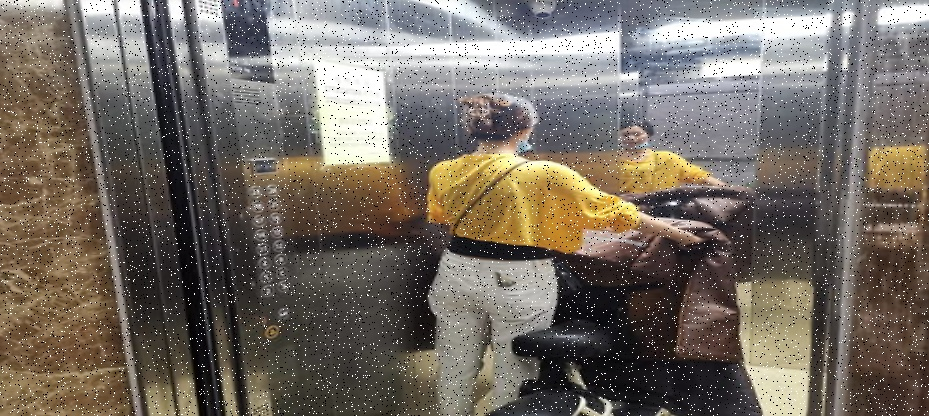ebike: (492, 224, 745, 416)
person: (432, 97, 694, 408), (626, 120, 740, 200)
